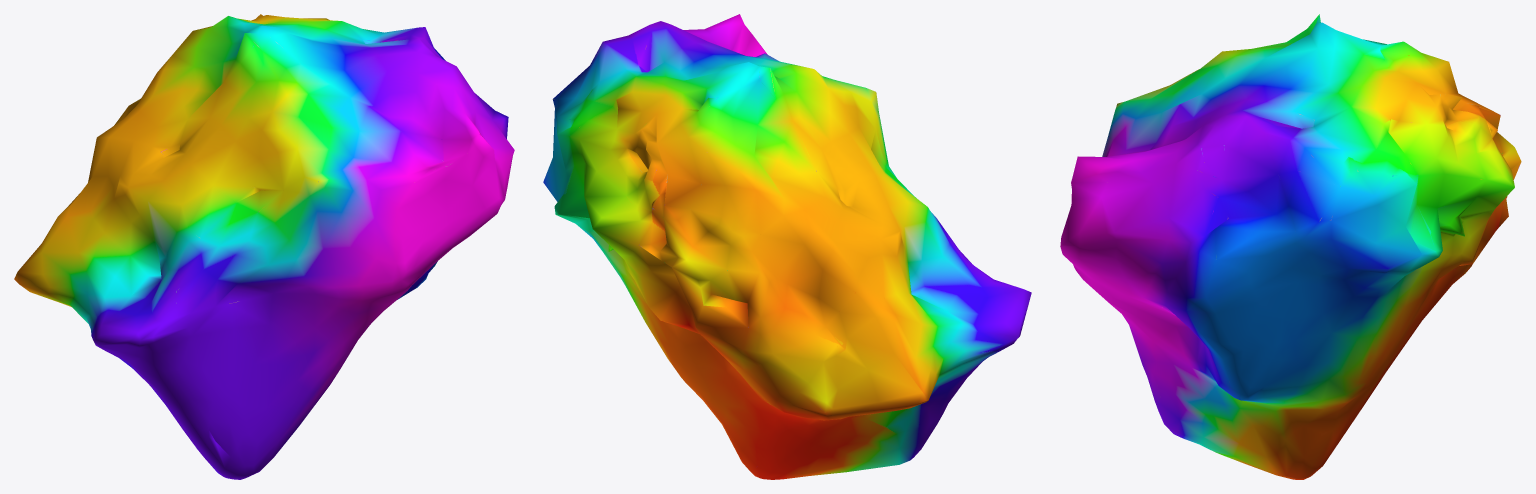
File: CARTO_Heart.glb
3 renders of one model, left to right at view 1: azimuth 30°, elevation 25°; view 2: azimuth 150°, elevation 25°; view 3: azimuth 270°, elevation 25°, orthographic. The views are drawn at different scales.
Visible parts, largest first — view 1: Heart_1.001; view 2: Heart_1.001; view 3: Heart_1.001.
Part boxes in pixels (x1,y1,x2,y2): Heart_1.001: [14, 14, 514, 479]; Heart_1.001: [543, 14, 1031, 479]; Heart_1.001: [1060, 14, 1521, 479].
Size of the model in its own units: 0.4276 by 0.3983 by 0.3612.
1 material, 1 textured.
